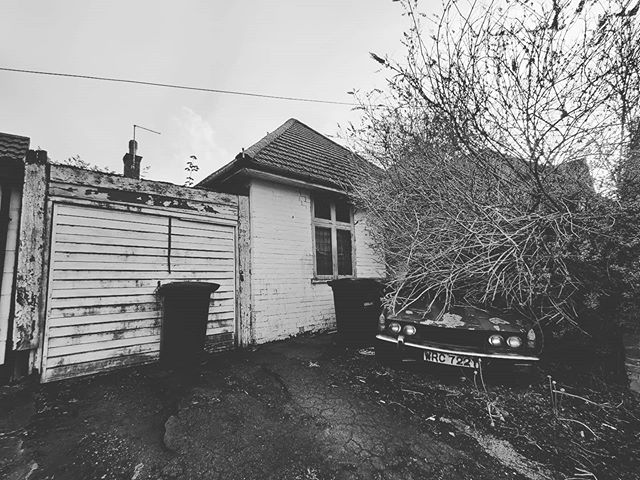building: (12, 125, 396, 378)
car: (362, 273, 548, 386)
sky: (1, 1, 388, 135)
trash can: (137, 275, 229, 383)
vegetation: (371, 1, 640, 307)
